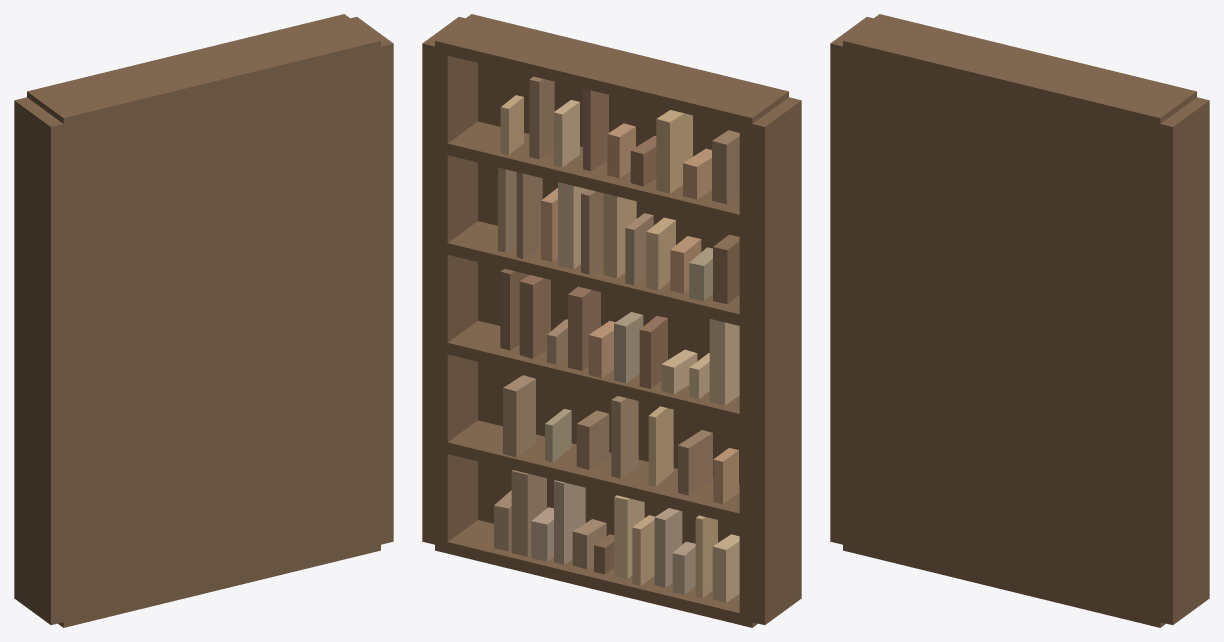
3 renders of one model, left to right at view 1: azimuth 30°, elevation 25°; view 2: azimuth 150°, elevation 25°; view 3: azimuth 330°, elevation 25°, orthographic.
Parts seen in each view (by area): view 1: Cube.002, Cube, Cube.008, Cube.001, Cube.003, Cube.004, Cube.005, Cube.007, Cube.006; view 2: Cube, Cube.002, Cube.001, Cube.008, Cube.004, Cube.007, Cube.006, Cube.003, Cube.005, Book.042, Book.019, Book.018 (+46 smaller); view 3: Cube.002, Cube.001, Cube.008, Cube, Cube.004, Cube.003, Cube.007, Cube.006, Cube.005.
Boxes of the visible parts, box(x1,y1,x2,y2) form: Cube.002: box(63, 46, 380, 612); Cube: box(14, 97, 76, 624); Cube.008: box(27, 14, 380, 123); Cube.001: box(350, 17, 393, 547); Cube.003: box(58, 543, 380, 627); Cube.004: box(63, 439, 380, 527); Cube.005: box(76, 340, 380, 422); Cube.007: box(64, 140, 380, 227); Cube.006: box(71, 240, 380, 324); Cube: box(739, 97, 801, 624); Cube.002: box(478, 63, 739, 544); Cube.001: box(422, 17, 477, 547); Cube.008: box(435, 14, 788, 127); Cube.004: box(435, 420, 747, 526); Cube.007: box(435, 121, 751, 227); Cube.006: box(435, 221, 746, 325); Cube.003: box(435, 520, 757, 627); Cube.005: box(435, 320, 741, 425); Book.042: box(656, 110, 692, 193); Book.019: box(709, 319, 739, 405); Book.018: box(503, 375, 535, 457); Cube.002: box(843, 47, 1159, 612); Cube.001: box(1147, 97, 1209, 624); Cube.008: box(843, 14, 1196, 126); Cube: box(830, 17, 873, 546); Cube.004: box(843, 439, 1155, 526); Cube.003: box(843, 545, 1165, 627); Cube.007: box(843, 140, 1159, 227); Cube.006: box(843, 240, 1151, 325); Cube.005: box(853, 343, 1149, 422).
Size of the model in its own units: 2.16 by 3.07 by 0.4.
